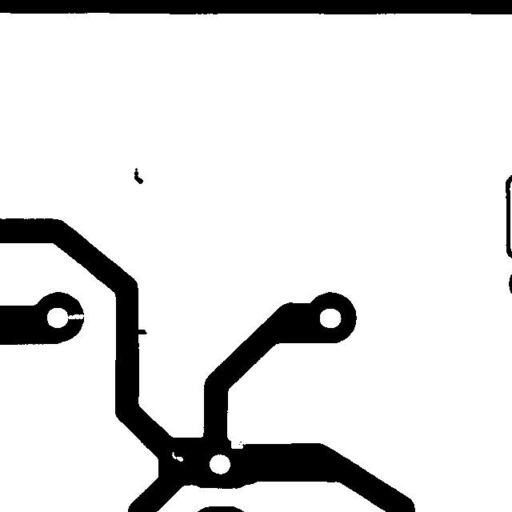copper: (126, 160, 150, 191)
mousebite: (223, 432, 254, 456)
open: (56, 306, 94, 326)
pin-hole: (164, 444, 190, 469)
spur: (127, 322, 154, 342)
